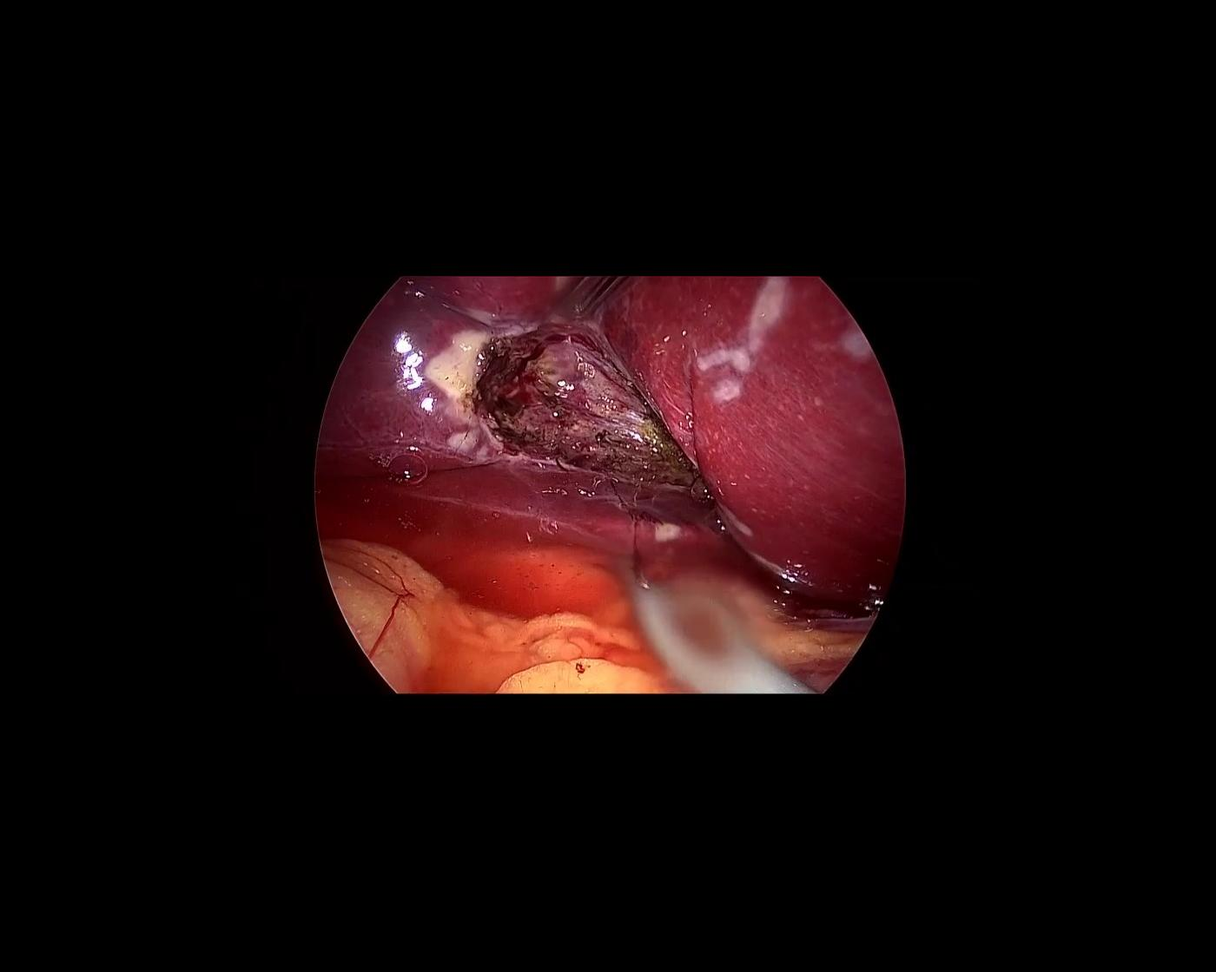Forceps: (551, 255, 630, 334)
Liver: (578, 196, 988, 649), (313, 277, 577, 479)
